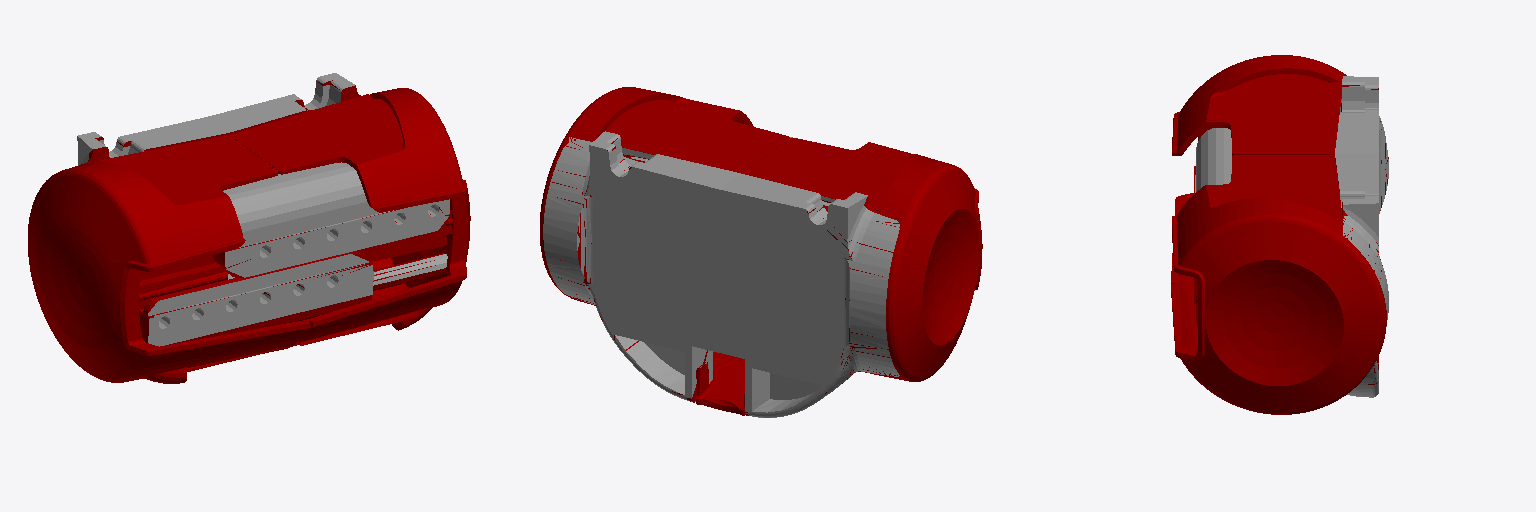
File: electric_gripper_base.obj
3 views of the same model, side by side, from view 1: azimuth 30°, elevation 25°; view 2: azimuth 150°, elevation 25°; view 3: azimuth 270°, elevation 25° (orthographic).
Parts seen in each view (by area): view 1: electric_gripper_base; view 2: electric_gripper_base; view 3: electric_gripper_base.
Boxes of the visible parts, x1=… form: electric_gripper_base: x1=28, y1=73, x2=470, y2=383; electric_gripper_base: x1=540, y1=87, x2=982, y2=417; electric_gripper_base: x1=1171, y1=55, x2=1388, y2=414.
Bounding box in the file's own units: 0.1055 × 0.0659 × 0.0534.